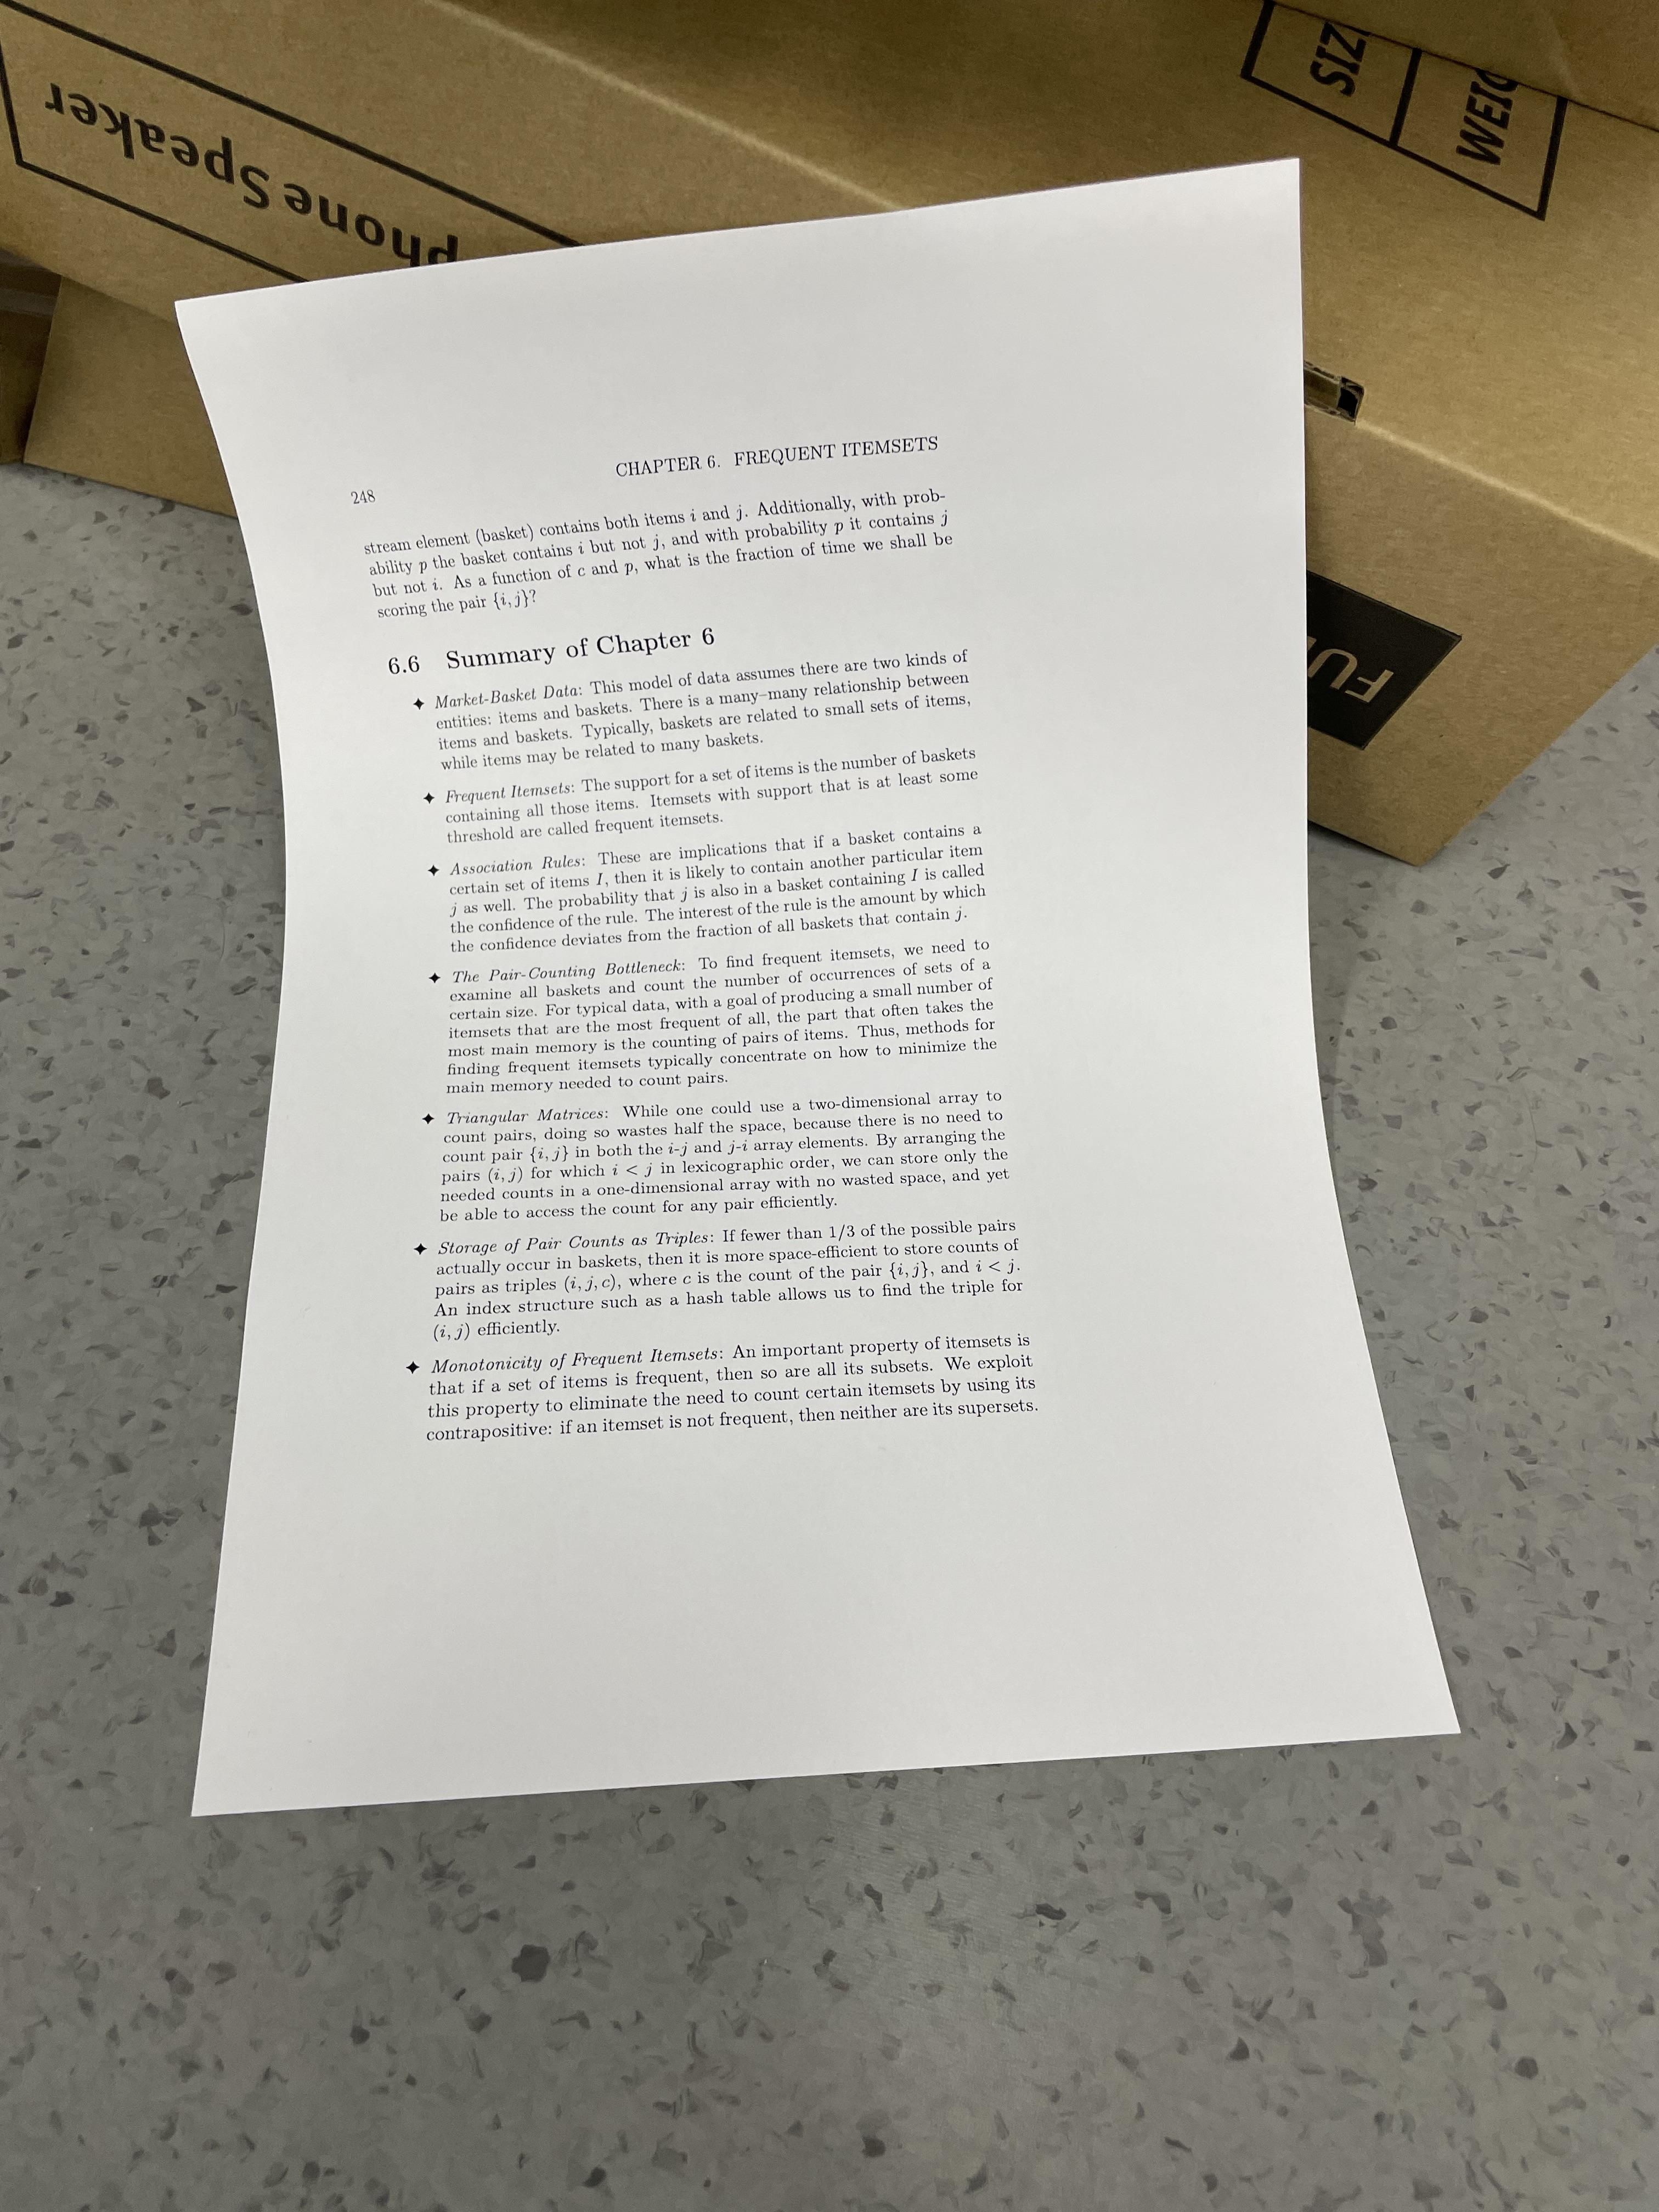paper: (80, 129, 1527, 1949)
